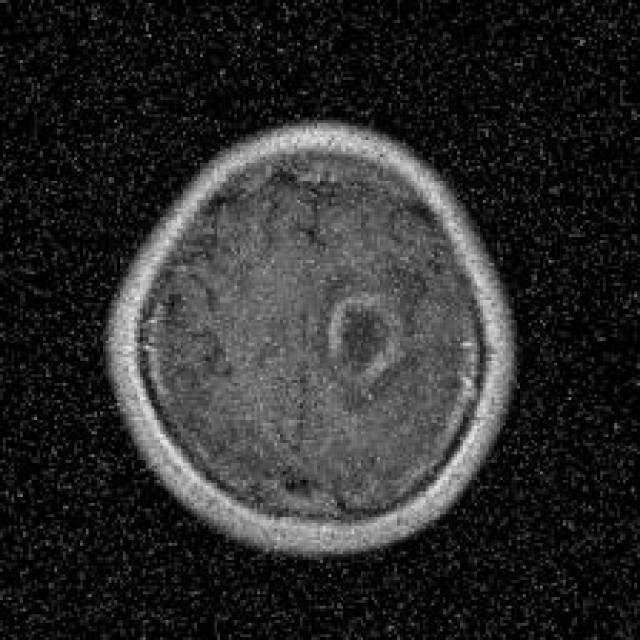glioma_tumor: (314, 252, 427, 420)
